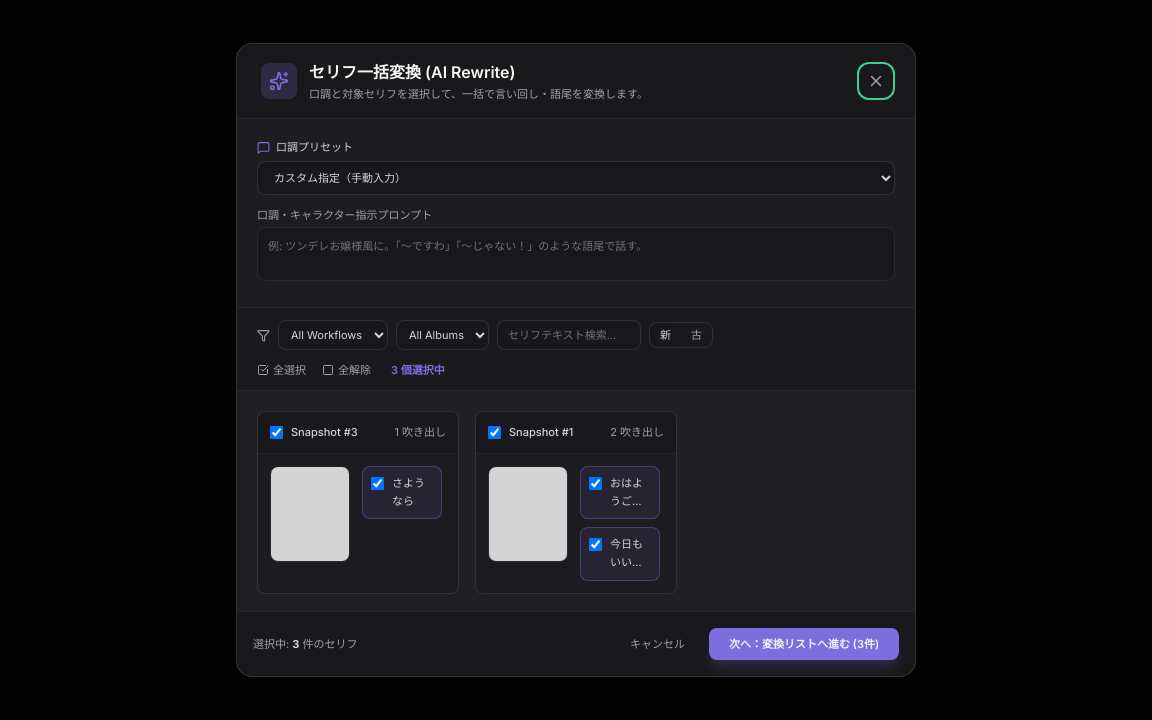
Test case: BatchSpeechTransformModal › filters snapshots by workflow and text search (AC-2)
The width and height of the screenshot is (1152, 720).
Expected: the text "Snapshot #1" is shown, [509, 424, 573, 440]
# Search query
Type "さようなら" into the field with placeholder "セリフテキスト検索..." at (569, 335), box [497, 320, 641, 350]
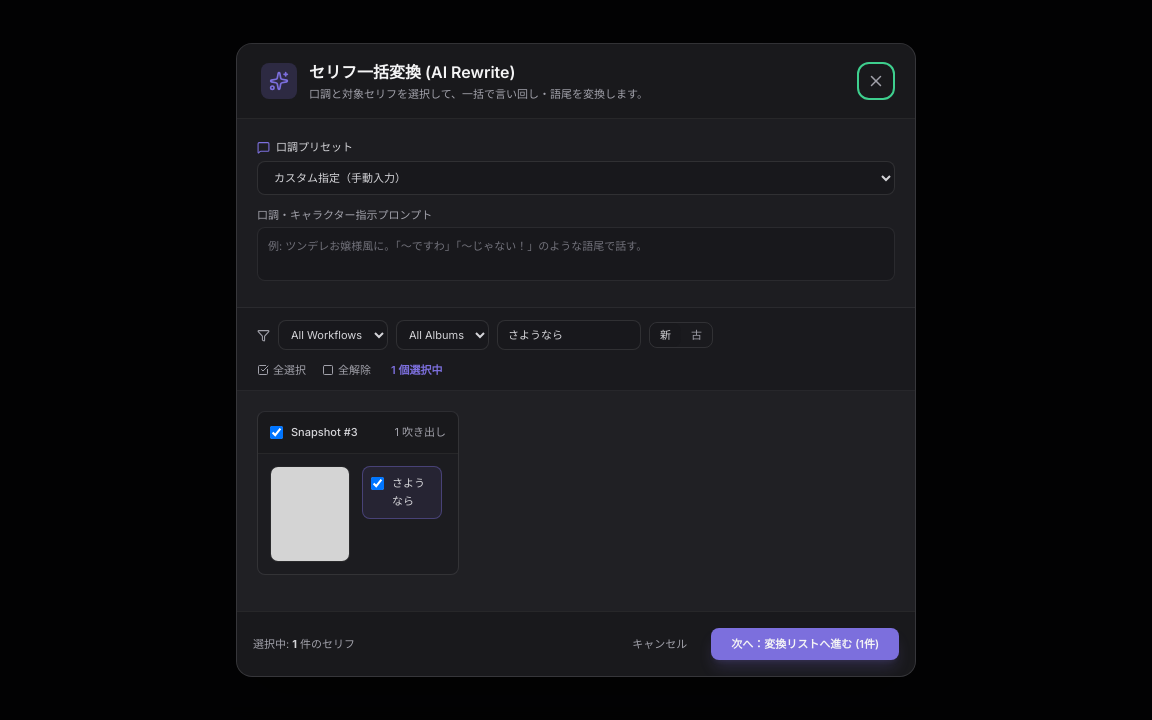
Expected: the text "Snapshot #3" is shown, [291, 424, 358, 440]
Result: the text "Snapshot #1" is gone
